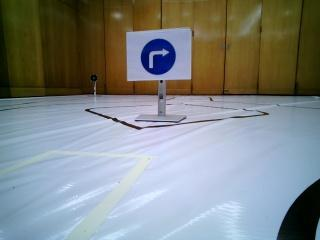right: (128, 29, 193, 82)
